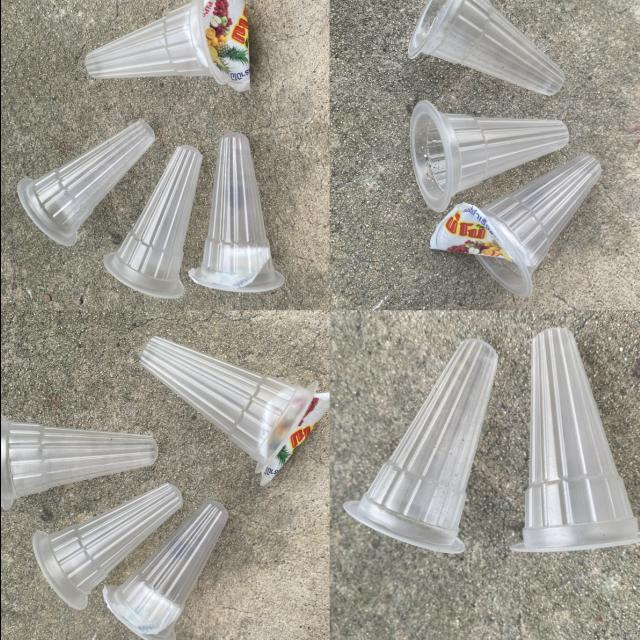plastik: (342, 340, 496, 553), (510, 328, 640, 552), (139, 337, 328, 486), (429, 155, 600, 297), (32, 483, 181, 610), (409, 101, 568, 212), (103, 501, 227, 640), (16, 121, 153, 246), (84, 0, 249, 92), (408, 0, 563, 96), (103, 145, 200, 298), (0, 414, 156, 509), (188, 133, 280, 292)
